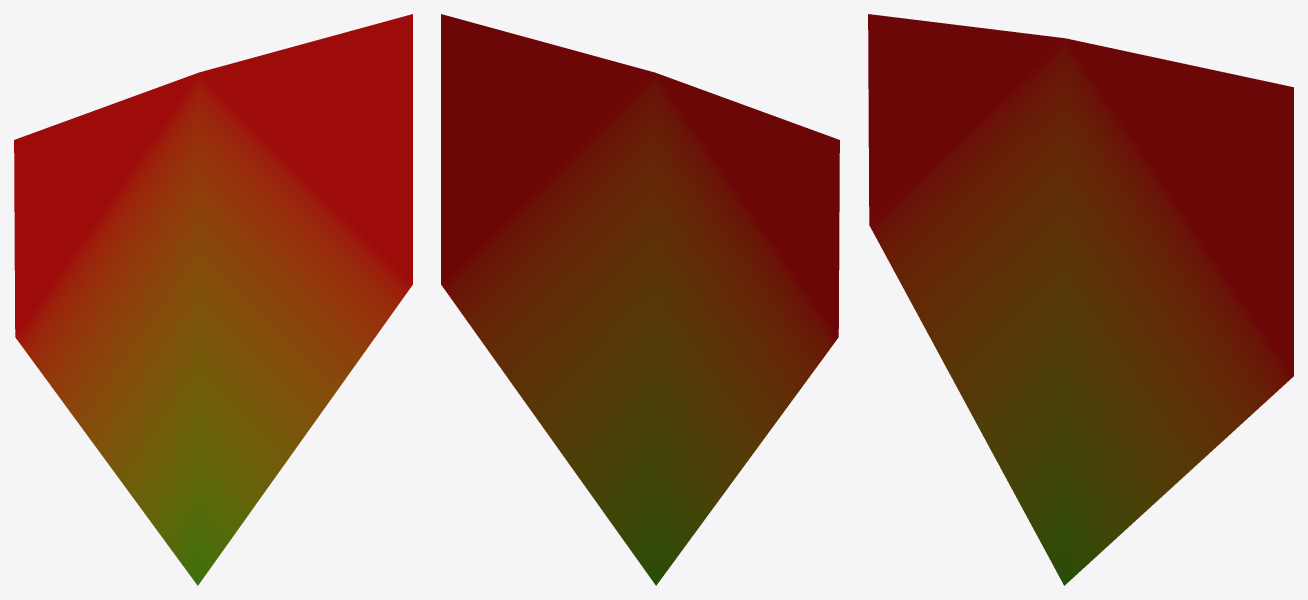
The model's file is Pink Cordyline_LOD3_Var5_sfhhN.fbx.
3 renders of one model, left to right at view 1: azimuth 30°, elevation 25°; view 2: azimuth 150°, elevation 25°; view 3: azimuth 330°, elevation 25°, orthographic. The views are drawn at different scales.
Visible parts, largest first — view 1: _e647_Var5_LOD3; view 2: _e647_Var5_LOD3; view 3: _e647_Var5_LOD3.
Part boxes in pixels (box(x1,y1,x2,y2)): _e647_Var5_LOD3: box(14, 14, 412, 585); _e647_Var5_LOD3: box(441, 14, 839, 585); _e647_Var5_LOD3: box(868, 14, 1293, 585).
Bounding box in the file's own units: 86.86 × 108 × 7.63e-06.
